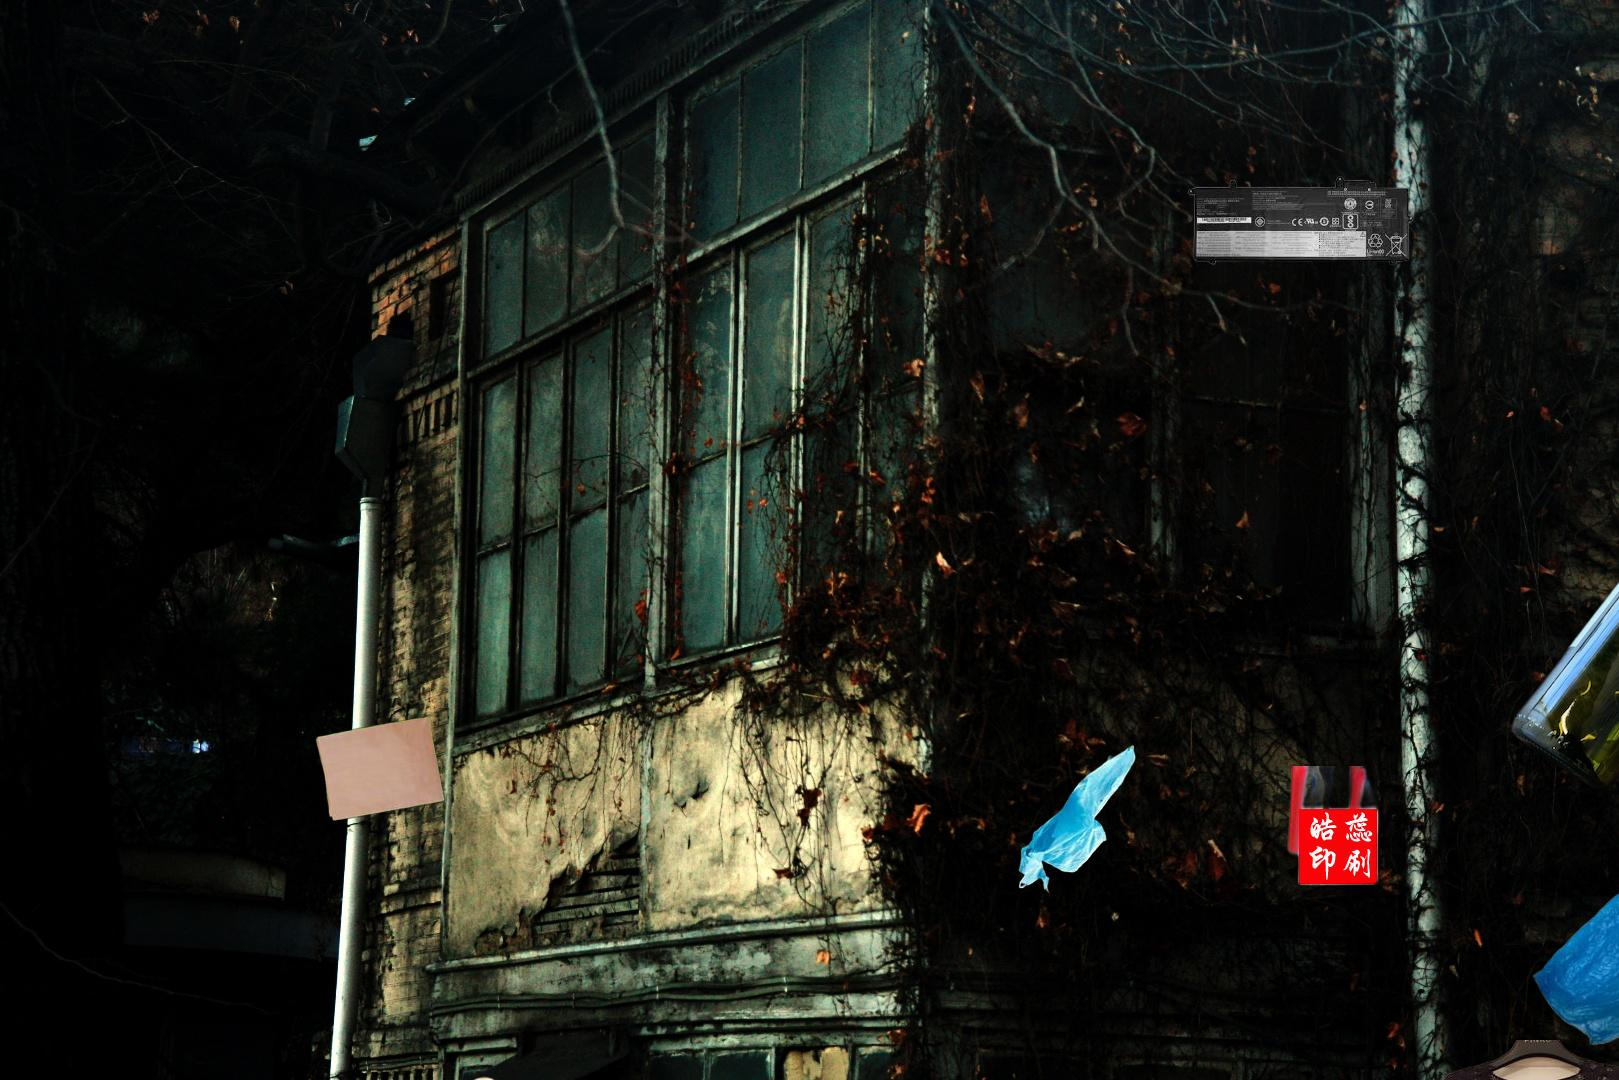battery: (1188, 174, 1413, 268)
clothes: (1412, 1040, 1619, 1080)
glass: (1506, 434, 1619, 795)
paper-bag: (312, 715, 448, 824)
penholder: (1245, 766, 1619, 1080)
plastic-bag: (1016, 743, 1137, 898), (1530, 874, 1619, 1048)
plastic-bottles: (375, 1071, 512, 1080)
